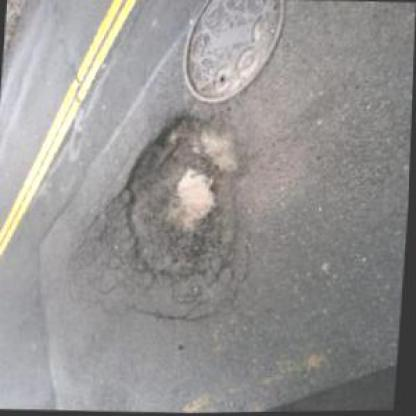pothole: (115, 113, 246, 284)
